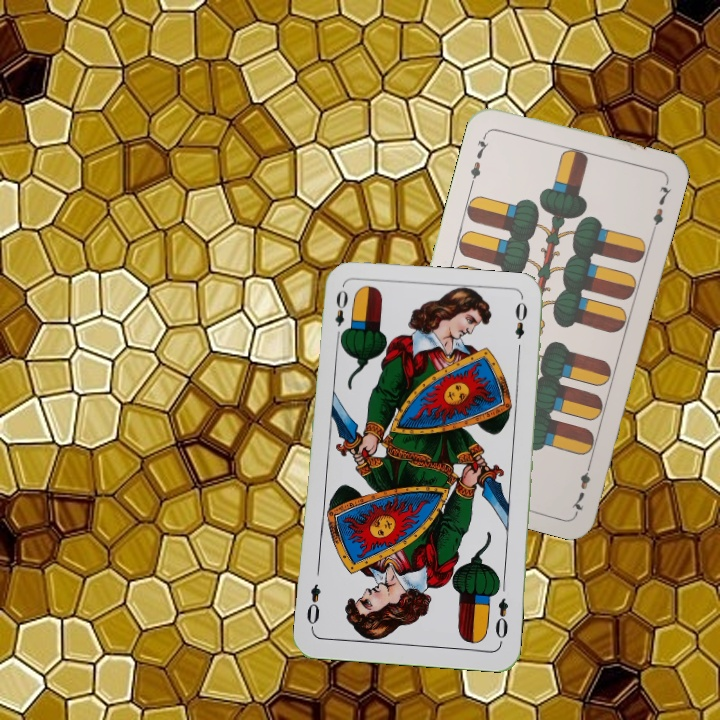E7: (567, 457, 595, 515), (466, 129, 492, 187)
EO: (331, 286, 351, 343), (491, 594, 511, 641)
